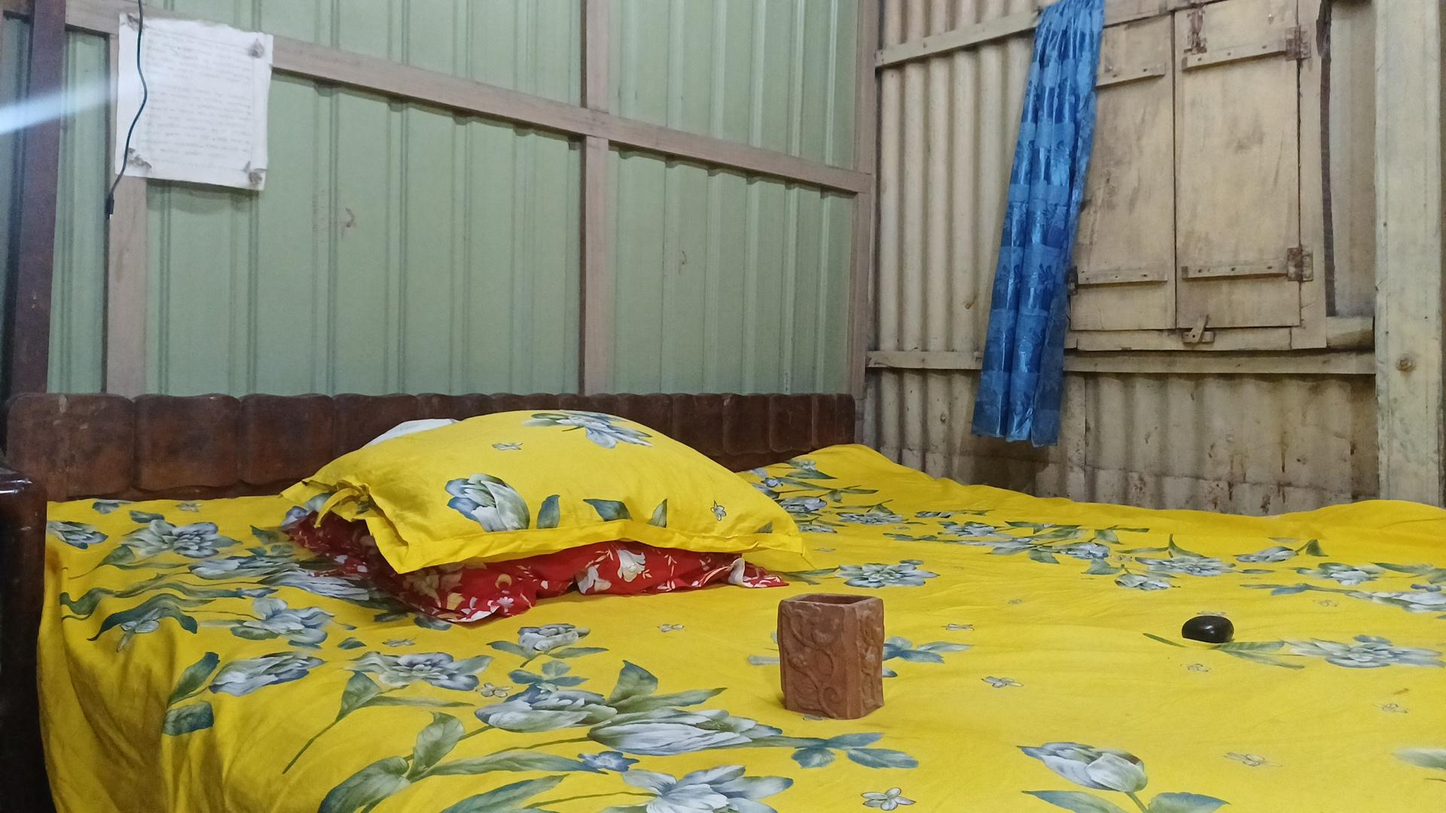Pen Stand: (742, 593, 910, 706)
Pillow: (233, 388, 809, 593)
Window: (1006, 27, 1353, 383)
